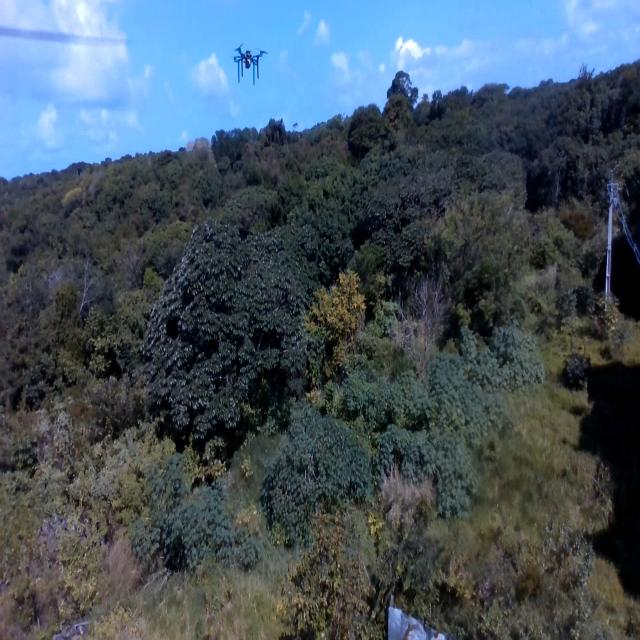-uav-: (227, 36, 271, 90)
